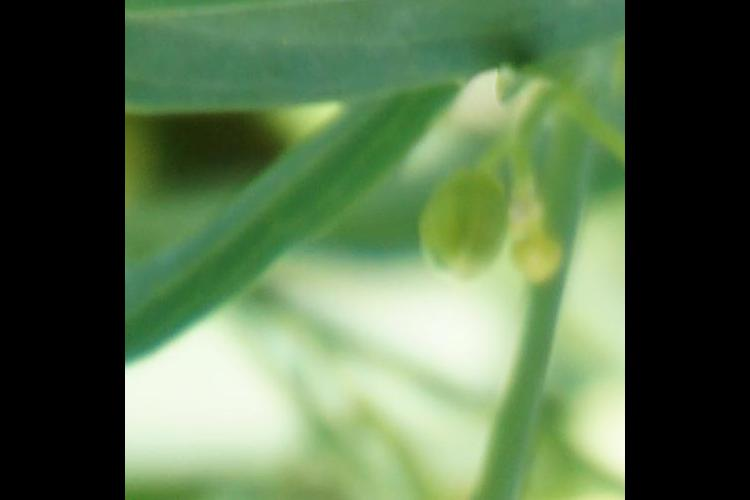bud: (419, 157, 512, 290)
